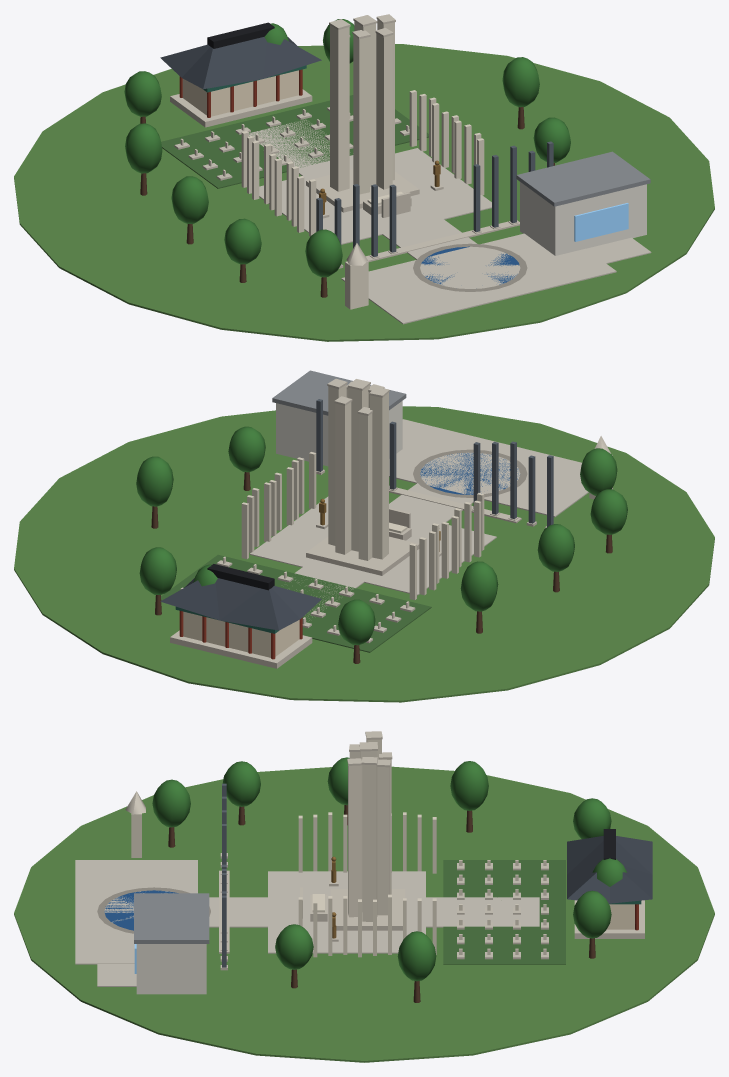
File: april-19-cemetery.glb
The picture shows the model from 3 angles, top to bottom: view 1: azimuth 30°, elevation 25°; view 2: azimuth 150°, elevation 25°; view 3: azimuth 270°, elevation 25°; orthographic projection.
Size of the model in its own units: 80 by 21.47 by 80.
